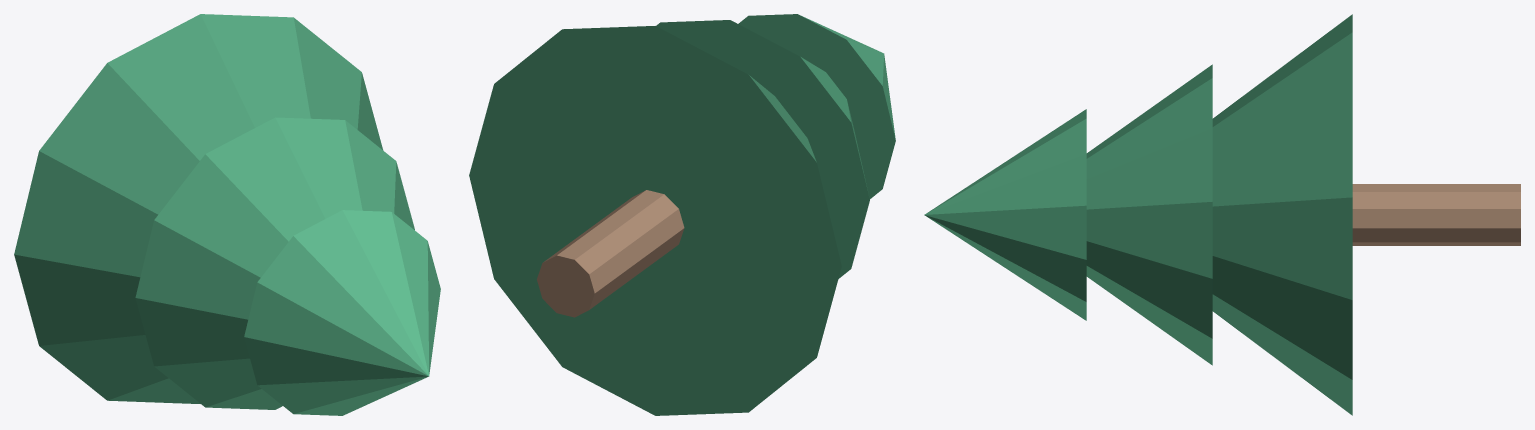
File: tree-pine.glb
3 views of the same model, side by side, from view 1: azimuth 30°, elevation 25°; view 2: azimuth 150°, elevation 25°; view 3: azimuth 270°, elevation 25° (orthographic). The views are drawn at different scales.
Parts seen in each view (by area): view 1: world; view 2: world; view 3: world.
Part boxes in pixels (box(x1,y1,x2,y2)): world: box(14, 14, 440, 415); world: box(469, 14, 895, 415); world: box(924, 14, 1520, 415).
Bounding box in the file's own units: 3.6 × 3.6 × 5.32.
